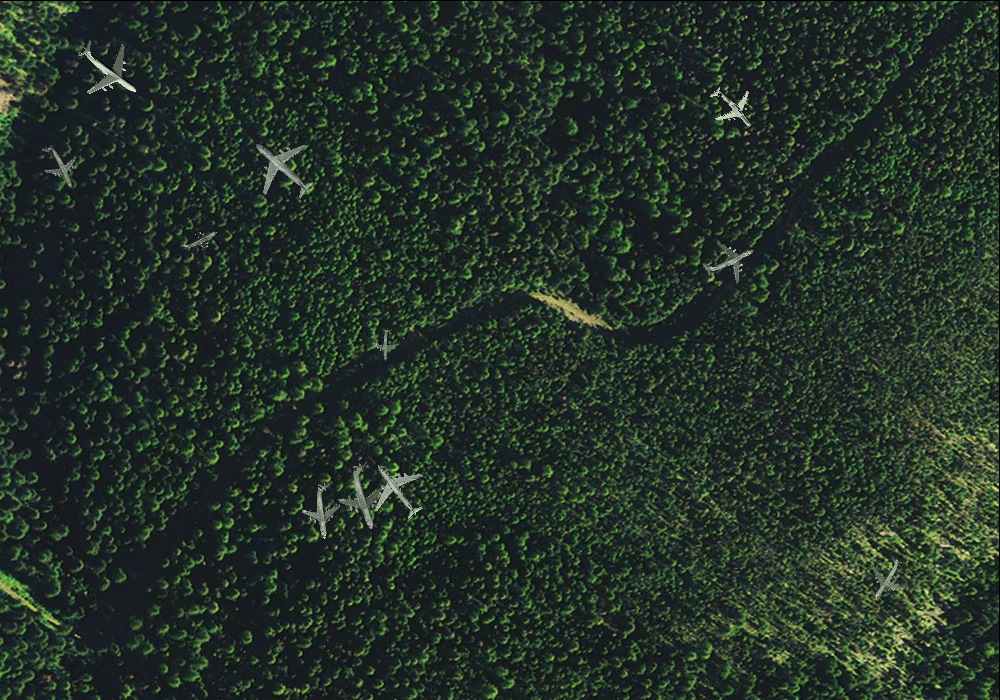plane: (233, 119, 330, 216), (61, 21, 156, 116), (355, 447, 439, 532), (326, 454, 402, 537), (697, 72, 768, 143), (694, 226, 764, 294), (855, 547, 918, 610), (29, 136, 87, 197), (295, 479, 351, 542), (173, 215, 223, 263), (370, 328, 401, 360)
